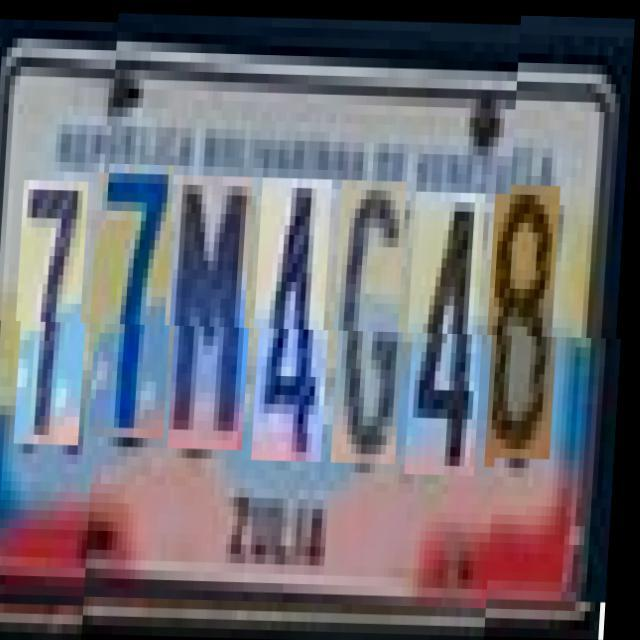4: (256, 176, 340, 460), (410, 189, 493, 473)
7: (94, 162, 181, 438), (19, 170, 96, 435)
8: (490, 190, 568, 466)
G: (336, 178, 414, 462)
M: (172, 174, 260, 449)
